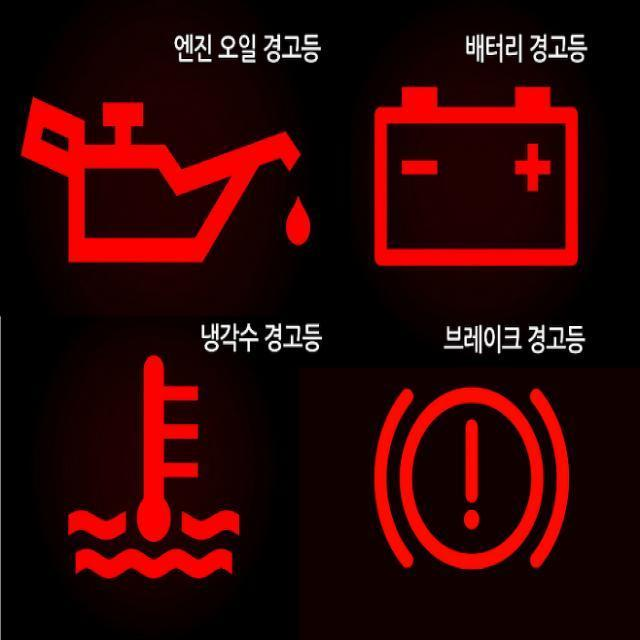Engine cooling system: (64, 354, 240, 580)
